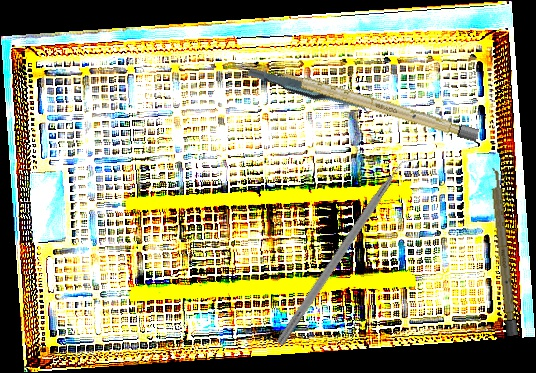Chopper: (275, 146, 425, 354)
Scalpel Handle: (276, 68, 480, 143), (489, 166, 518, 337)
Tissue Forceps: (247, 43, 374, 137)
